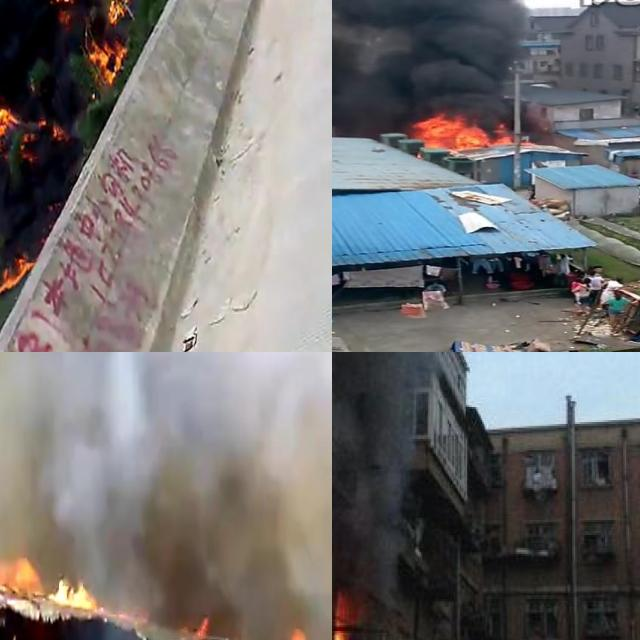fire: (0, 559, 144, 621), (57, 0, 130, 83), (409, 111, 525, 151), (0, 103, 64, 156), (0, 253, 32, 293), (332, 593, 352, 640), (0, 104, 14, 148), (286, 628, 313, 640)
smoke: (0, 352, 332, 611), (332, 352, 458, 565), (332, 0, 520, 112)
